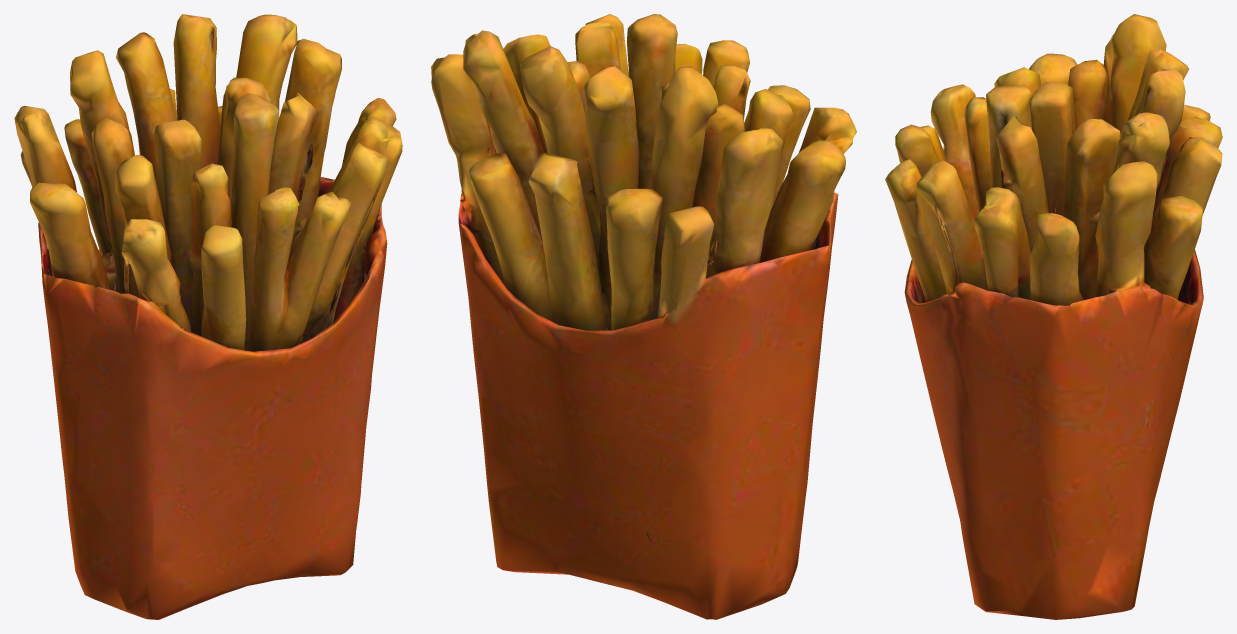
3 views of the same model, side by side, from view 1: azimuth 30°, elevation 25°; view 2: azimuth 150°, elevation 25°; view 3: azimuth 270°, elevation 25° (orthographic). The views are drawn at different scales.
Size of the model in its own units: 1.41 by 1.9 by 1.14.
1 material, 1 textured.
